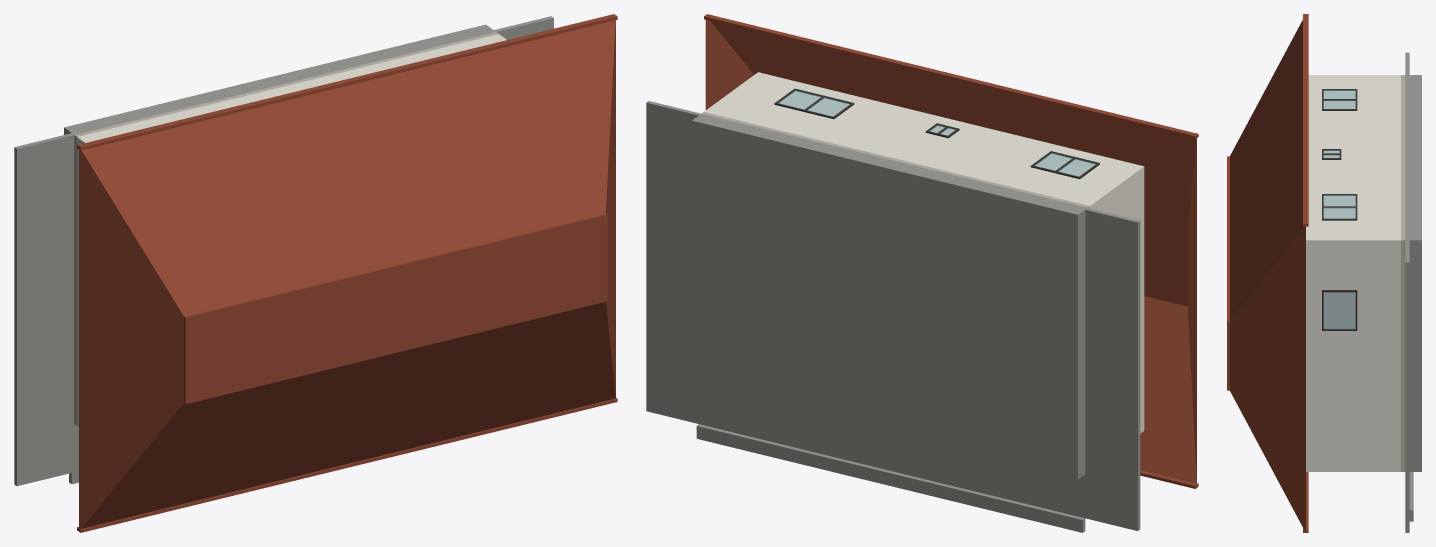
The model's file is house_bim_model.obj.
3 renders of one model, left to right at view 1: azimuth 30°, elevation 25°; view 2: azimuth 150°, elevation 25°; view 3: azimuth 270°, elevation 25°, orthographic. The views are drawn at different scales.
Parts seen in each view (by area): view 1: A-Roof, A-Site, S-Foundation, A-Walls-Exterior, S-Floors; view 2: S-Foundation, A-Site, A-Roof, A-Walls-Exterior, A-Windows, S-Floors; view 3: A-Walls-Exterior, A-Roof, S-Foundation, A-Windows, S-Floors, A-Site.
Boxes of the visible parts, left/top/right/bottom form: A-Roof: left=77, top=14, right=617, bottom=532; A-Site: left=14, top=16, right=553, bottom=486; S-Foundation: left=64, top=24, right=495, bottom=134; A-Walls-Exterior: left=77, top=34, right=506, bottom=426; S-Floors: left=74, top=32, right=498, bottom=425; S-Foundation: left=692, top=113, right=1086, bottom=479; A-Site: left=646, top=101, right=1140, bottom=532; A-Roof: left=704, top=14, right=1198, bottom=488; A-Walls-Exterior: left=704, top=72, right=1144, bottom=433; A-Windows: left=774, top=88, right=1099, bottom=179; S-Floors: left=702, top=112, right=1089, bottom=208; A-Walls-Exterior: left=1306, top=75, right=1400, bottom=471; A-Roof: left=1227, top=14, right=1308, bottom=532; S-Foundation: left=1405, top=75, right=1421, bottom=471; A-Windows: left=1322, top=89, right=1357, bottom=330; S-Floors: left=1401, top=75, right=1405, bottom=471; A-Site: left=1405, top=52, right=1413, bottom=532.
Bounding box in the file's own units: 14000 × 9950 × 5490.
